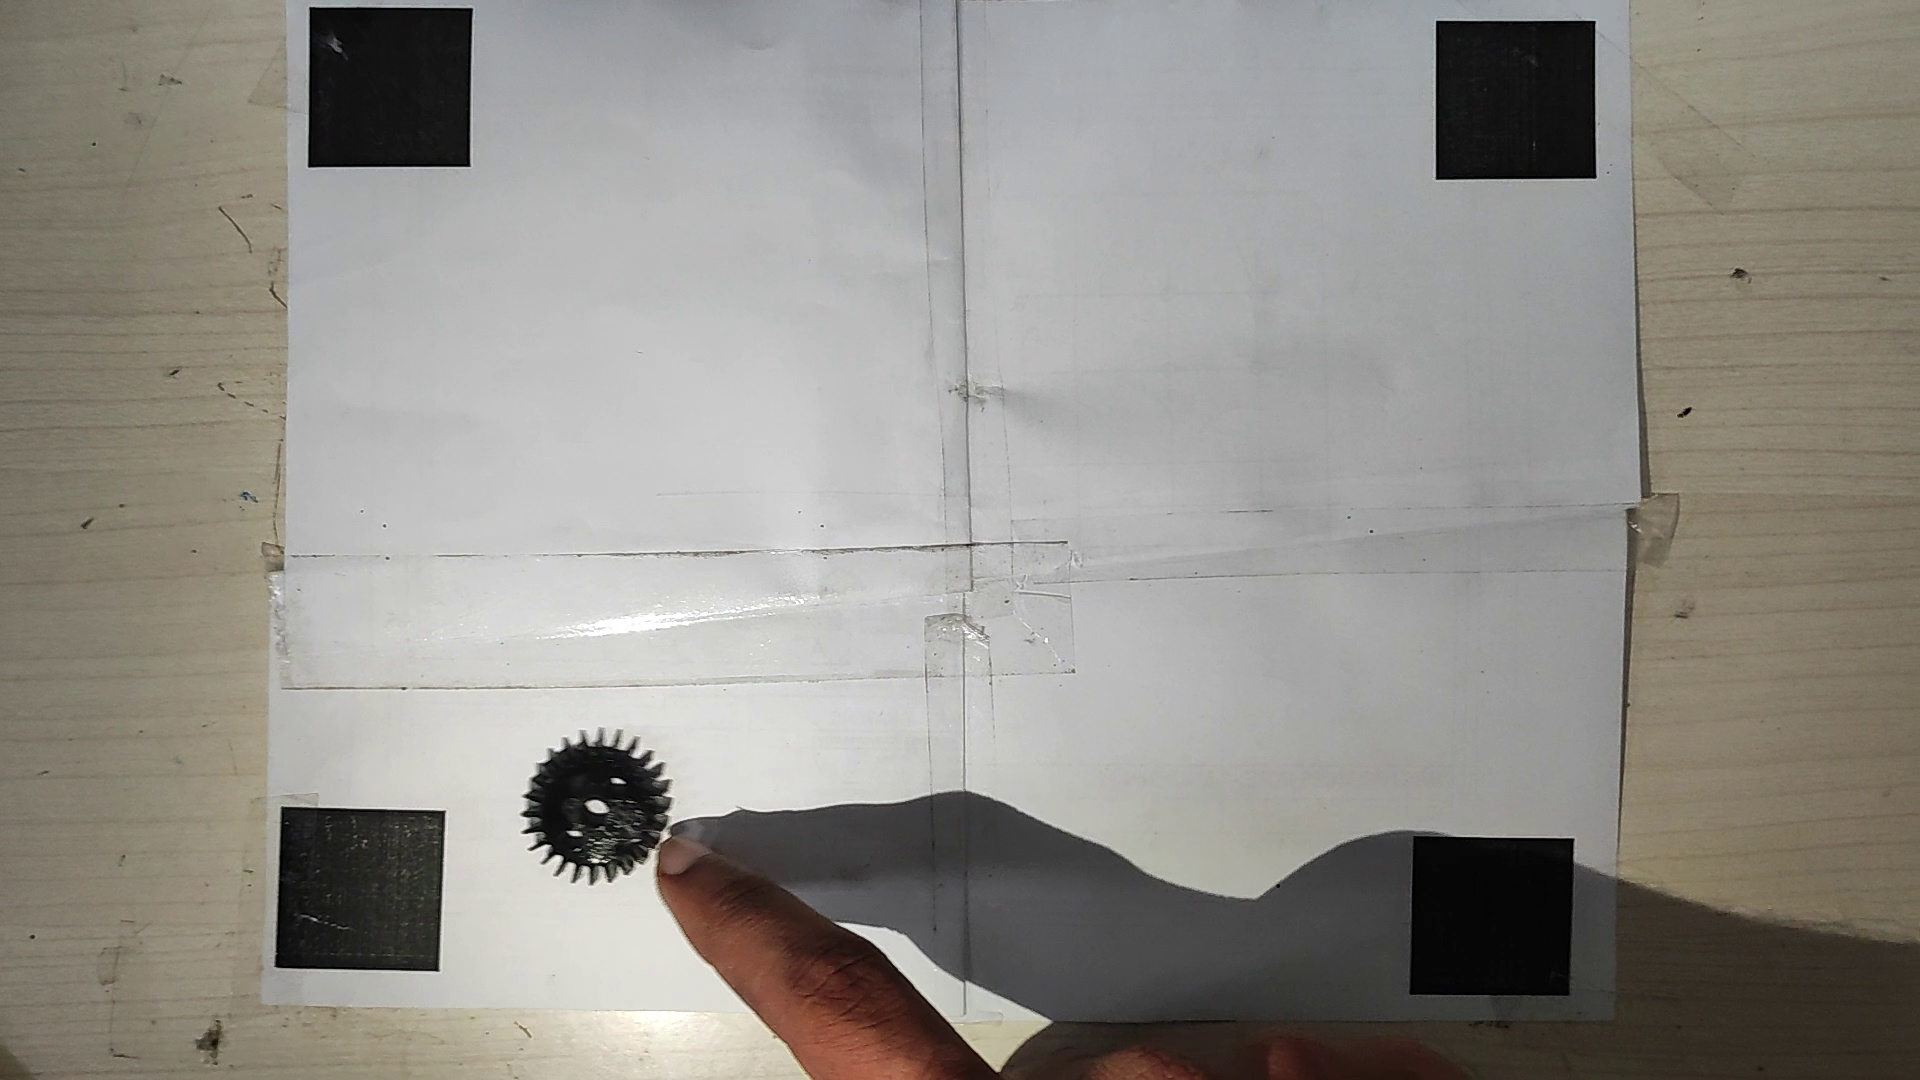Gear: (513, 727, 675, 887)
